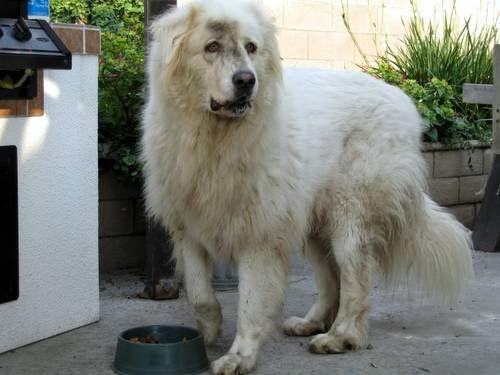dog-great_pyrenees: (160, 1, 277, 116)
